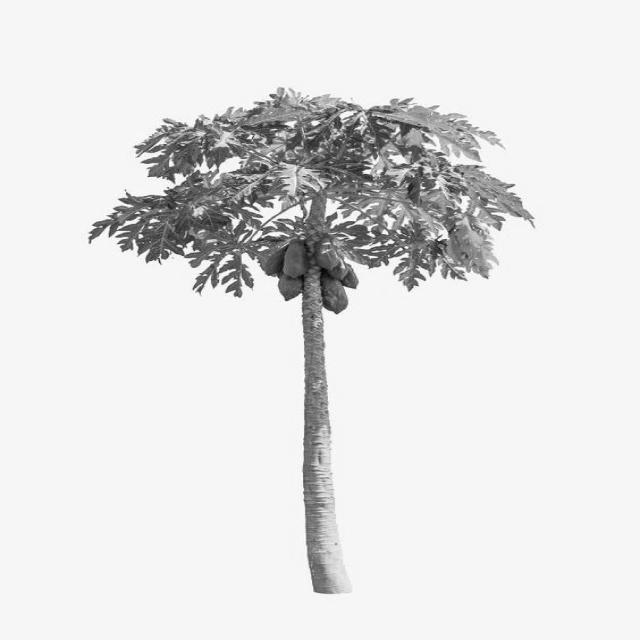Papaya-Tree: (140, 85, 488, 589)
